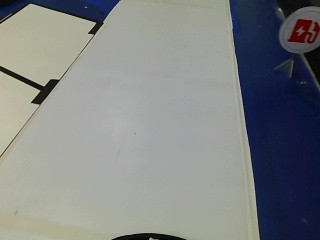battery: (278, 12, 318, 51)
